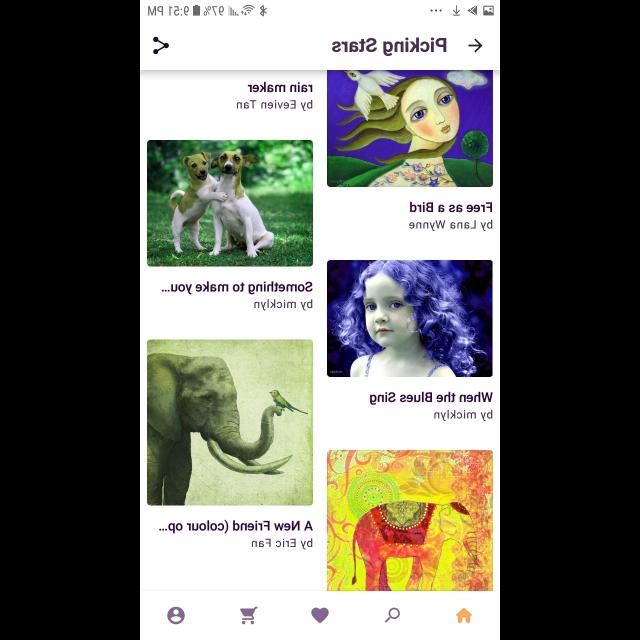icon: (239, 606, 257, 624), (167, 607, 185, 625), (153, 37, 169, 55), (311, 608, 329, 624), (468, 39, 484, 53), (456, 608, 472, 622), (384, 608, 400, 622)
image: (147, 340, 313, 506), (327, 450, 493, 590), (147, 140, 313, 268), (327, 70, 493, 188), (326, 260, 492, 378)
text: (159, 520, 313, 534), (162, 281, 314, 295), (332, 38, 446, 56), (370, 391, 492, 405), (408, 220, 492, 232), (236, 100, 312, 112), (409, 202, 491, 212), (252, 538, 312, 550), (433, 410, 492, 422), (248, 81, 312, 92), (254, 299, 312, 311)
uppertaskbar: (140, 1, 500, 17)
